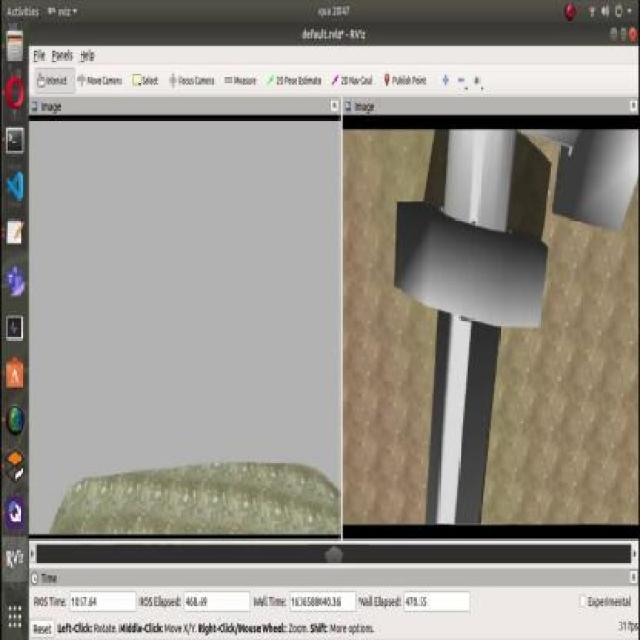gas: (438, 131, 518, 323), (424, 325, 498, 523)
